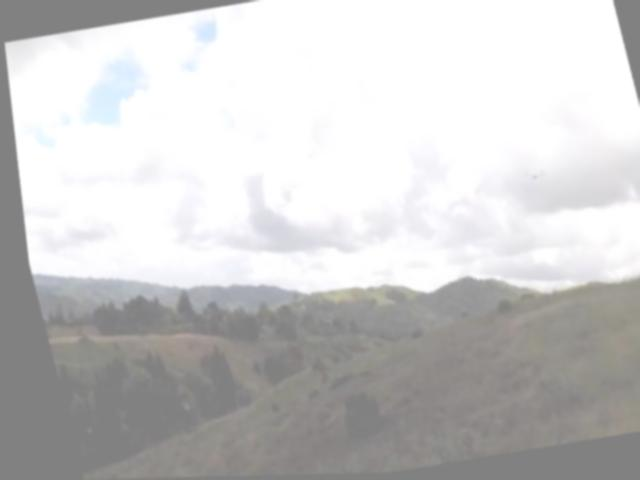iha: (519, 166, 545, 189)
